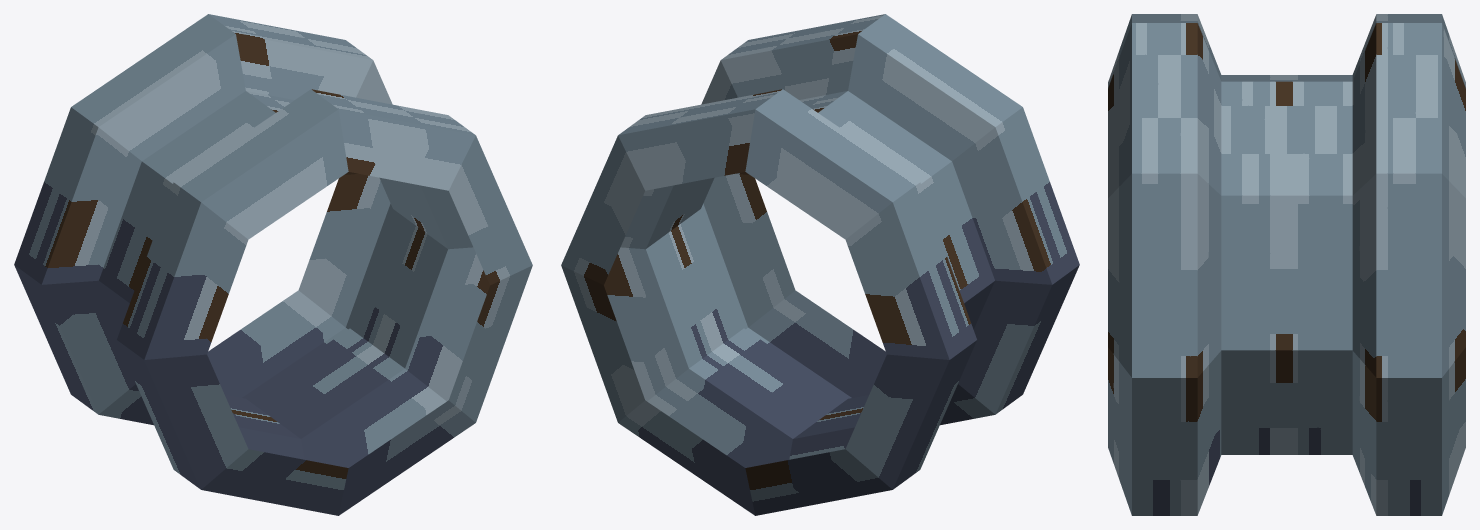
The model's file is IND-04_Tubo_brida.gltf.
3 views of the same model, side by side, from view 1: azimuth 30°, elevation 25°; view 2: azimuth 150°, elevation 25°; view 3: azimuth 270°, elevation 25° (orthographic). The views are drawn at different scales.
Visible parts, largest first — view 1: IND-04_Tubo_brida-convcol; view 2: IND-04_Tubo_brida-convcol; view 3: IND-04_Tubo_brida-convcol.
Part boxes in pixels (x1,y1,x2,y2): IND-04_Tubo_brida-convcol: (14,14,532,515); IND-04_Tubo_brida-convcol: (561,14,1079,515); IND-04_Tubo_brida-convcol: (1108,14,1465,515).
Size of the model in its own units: 0.448 by 0.448 by 0.3.
Materials: 1 (1 with a texture image).
